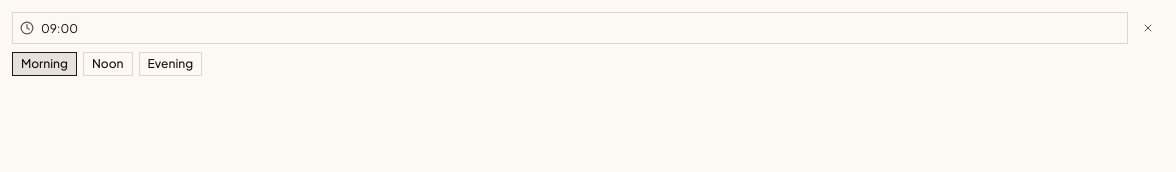
Test: TimePicker › Input Behavior › resets to last valid value on blur when input is invalid
Replace the text in the field with test id "time-picker-input" with "invalid" at (570, 28), box x1=12 y1=12 x2=1128 y2=44
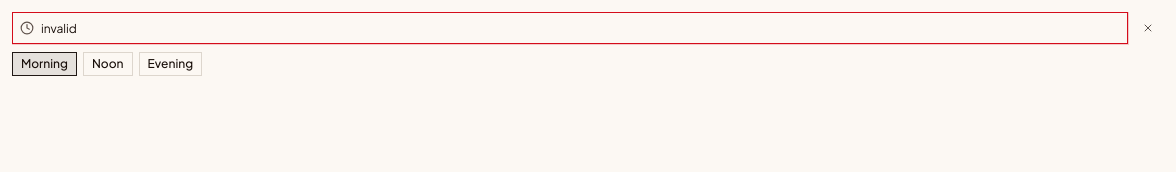
Press Tab
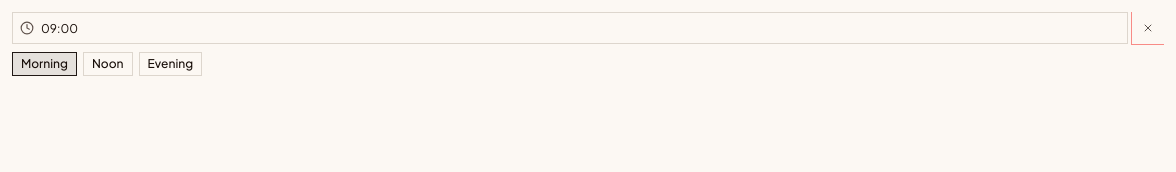
Expected: the field with test id "time-picker-input" holds "09:00", x1=12 y1=12 x2=1128 y2=44
